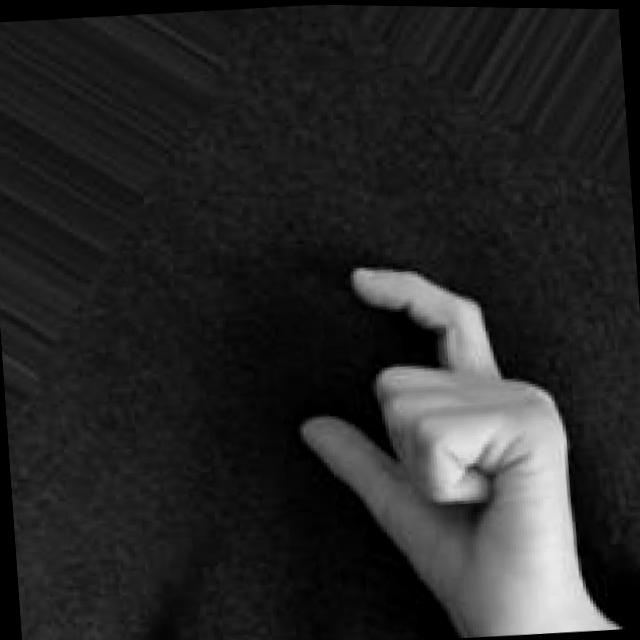C: (285, 249, 588, 640)
